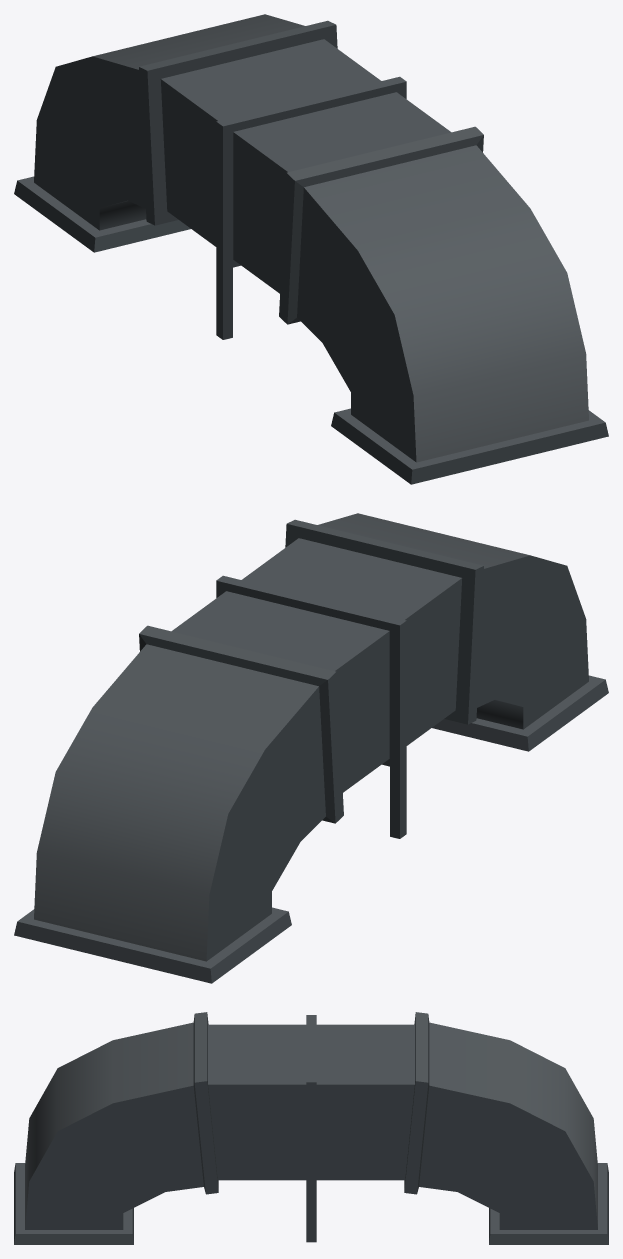
File: AirConditioning_B3.fbx
3 views of the same model, one above another, from view 1: azimuth 30°, elevation 25°; view 2: azimuth 150°, elevation 25°; view 3: azimuth 270°, elevation 25° (orthographic). The views are drawn at different scales.
Parts seen in each view (by area): view 1: AirConditioning_B3; view 2: AirConditioning_B3; view 3: AirConditioning_B3.
Boxes of the visible parts, box(x1,y1,x2,y2) form: AirConditioning_B3: box(14, 14, 608, 484); AirConditioning_B3: box(14, 513, 608, 983); AirConditioning_B3: box(14, 1012, 608, 1244).
Bounding box in the file's own units: 140 × 146 × 487.
